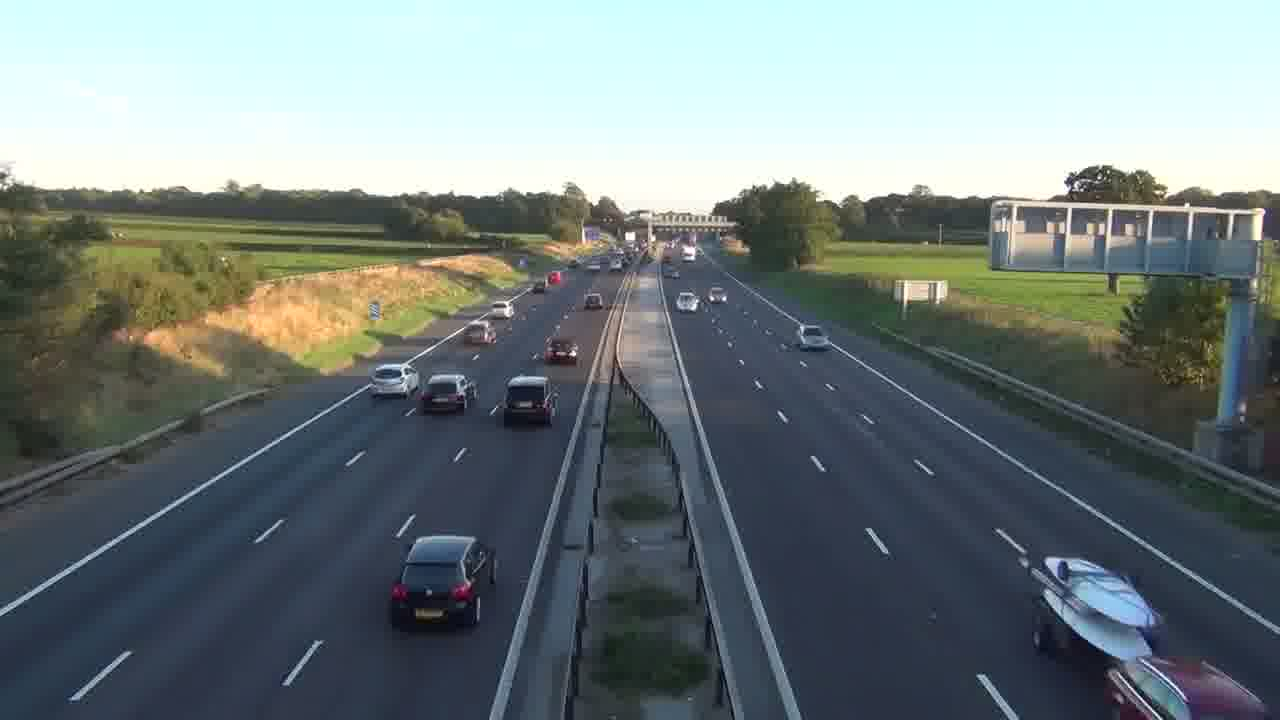car: (388, 533, 496, 631), (1104, 655, 1267, 719), (419, 372, 472, 415), (367, 363, 411, 399), (797, 324, 830, 350), (675, 291, 699, 312), (583, 291, 604, 310)
